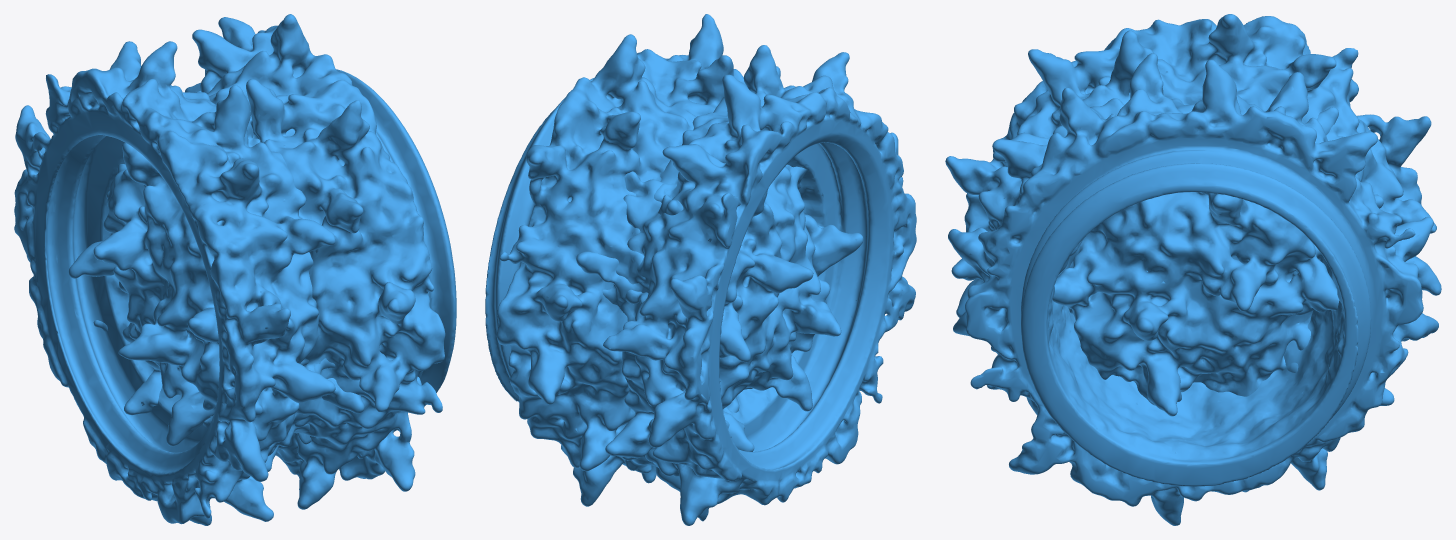
The model's file is polio.glb.
The picture shows the model from 3 angles, left to right: view 1: azimuth 30°, elevation 25°; view 2: azimuth 150°, elevation 25°; view 3: azimuth 270°, elevation 25°; orthographic projection. The views are drawn at different scales.
Visible parts, largest first — view 1: Cápside (metade A), Cápside (metade B); view 2: Cápside (metade A), Cápside (metade B); view 3: Cápside (metade B), Cápside (metade A).
Boxes of the visible parts, x1,y1,x2,y2 form: Cápside (metade A): [14, 41, 364, 525]; Cápside (metade B): [68, 14, 456, 509]; Cápside (metade A): [576, 45, 916, 525]; Cápside (metade B): [485, 14, 863, 506]; Cápside (metade B): [948, 53, 1438, 525]; Cápside (metade A): [945, 14, 1441, 416].
Size of the model in its own units: 7799 by 13107 by 12654.
